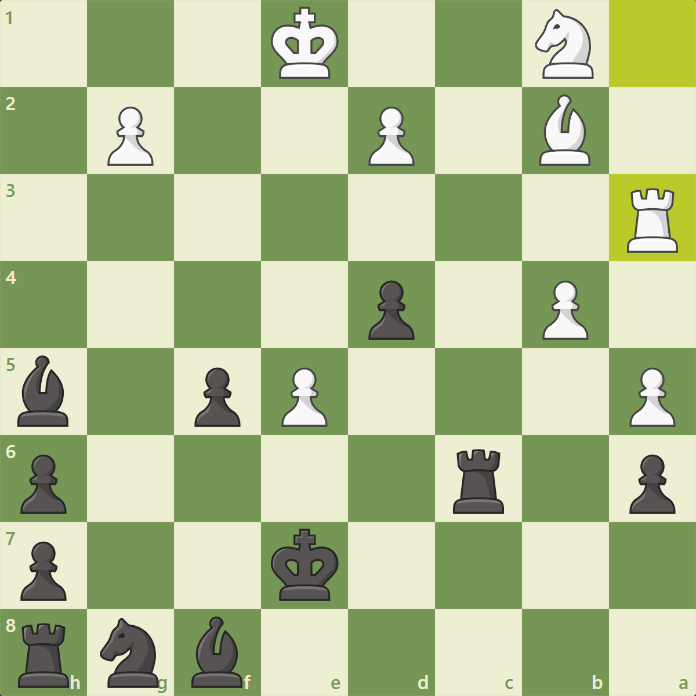B: (535, 93, 593, 169)
K: (268, 5, 341, 81)
N: (535, 7, 596, 82)
P: (366, 105, 418, 169), (104, 105, 156, 169), (628, 365, 678, 429), (540, 278, 590, 342), (279, 366, 329, 429)
R: (626, 186, 681, 255)
b: (13, 354, 71, 430), (188, 615, 245, 690)
k: (269, 527, 341, 603)
n: (98, 615, 162, 690)
p: (19, 540, 68, 603), (17, 453, 66, 516), (192, 365, 241, 428), (627, 453, 676, 516), (366, 279, 415, 342)
r: (16, 620, 73, 690), (451, 447, 506, 516)
